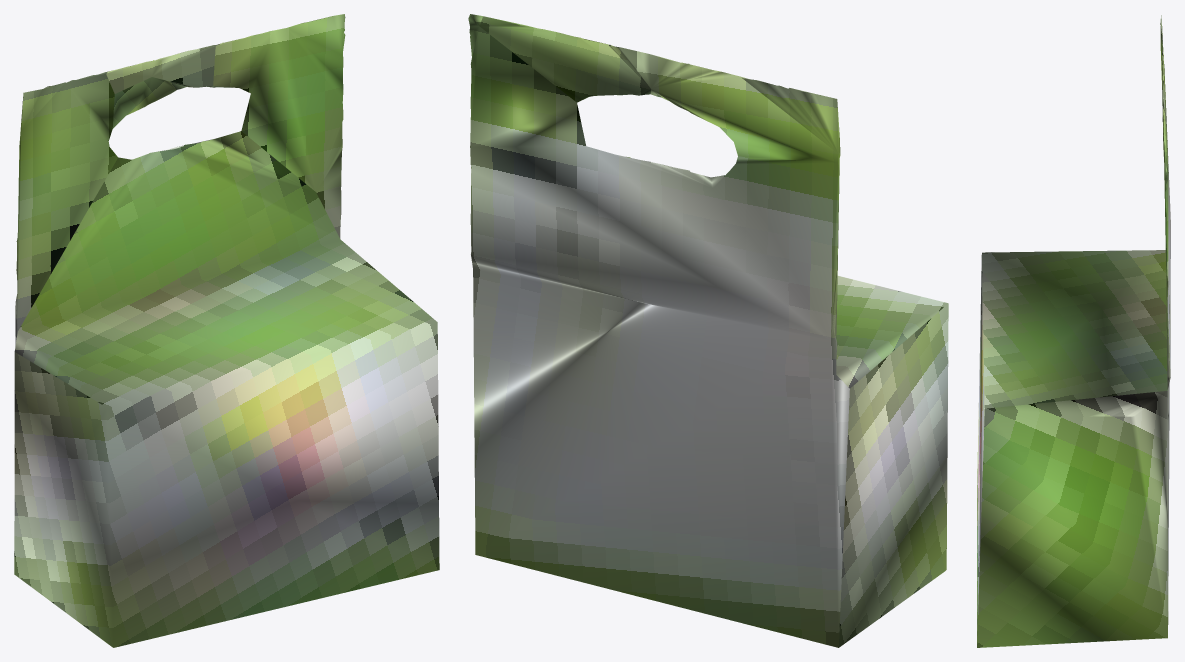
File: Dell_Ink_Cartridge-low.glb
3 views of the same model, side by side, from view 1: azimuth 30°, elevation 25°; view 2: azimuth 150°, elevation 25°; view 3: azimuth 270°, elevation 25° (orthographic). The views are drawn at different scales.
Visible parts, largest first — view 1: Dell_Ink_Cartridge; view 2: Dell_Ink_Cartridge; view 3: Dell_Ink_Cartridge.
Part boxes in pixels (box(x1,y1,x2,y2)): Dell_Ink_Cartridge: box(14, 14, 439, 647); Dell_Ink_Cartridge: box(468, 14, 948, 647); Dell_Ink_Cartridge: box(977, 15, 1170, 647).
Size of the model in its own units: 0.101 by 0.1392 by 0.051.
Materials: 1 (1 with a texture image).
